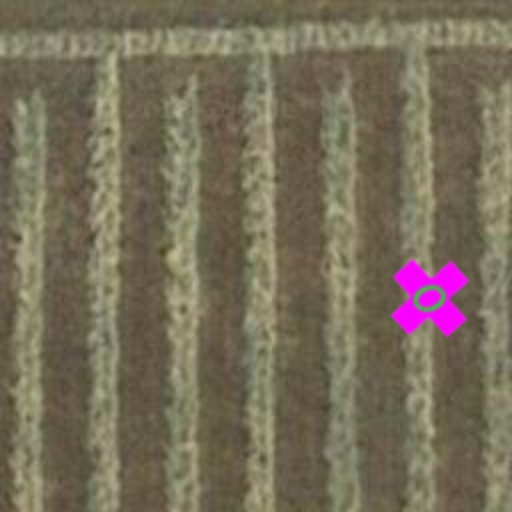cross: (372, 240, 488, 356)
